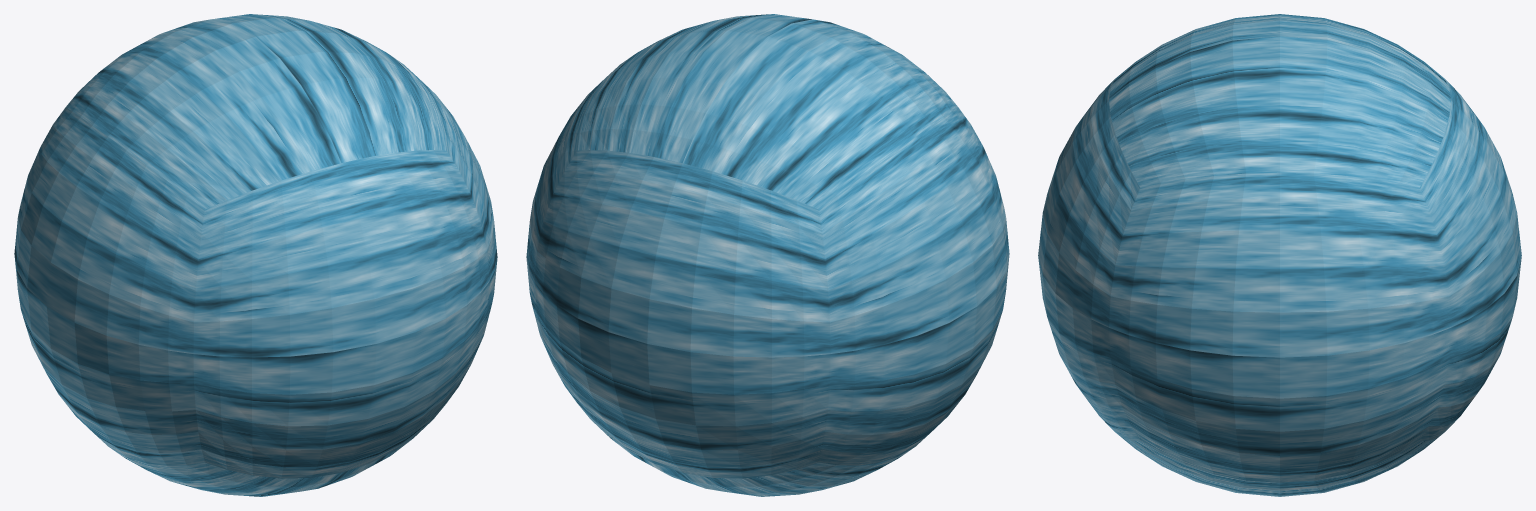
The model's file is speed_bubble.obj.
3 renders of one model, left to right at view 1: azimuth 30°, elevation 25°; view 2: azimuth 150°, elevation 25°; view 3: azimuth 270°, elevation 25°, orthographic.
Parts seen in each view (by area): view 1: Sphere; view 2: Sphere; view 3: Sphere.
Boxes of the visible parts, bbox=[...] form: Sphere: bbox=[14, 14, 497, 496]; Sphere: bbox=[526, 14, 1009, 496]; Sphere: bbox=[1038, 14, 1521, 496].
Bounding box in the file's own units: 2 × 2 × 2.
